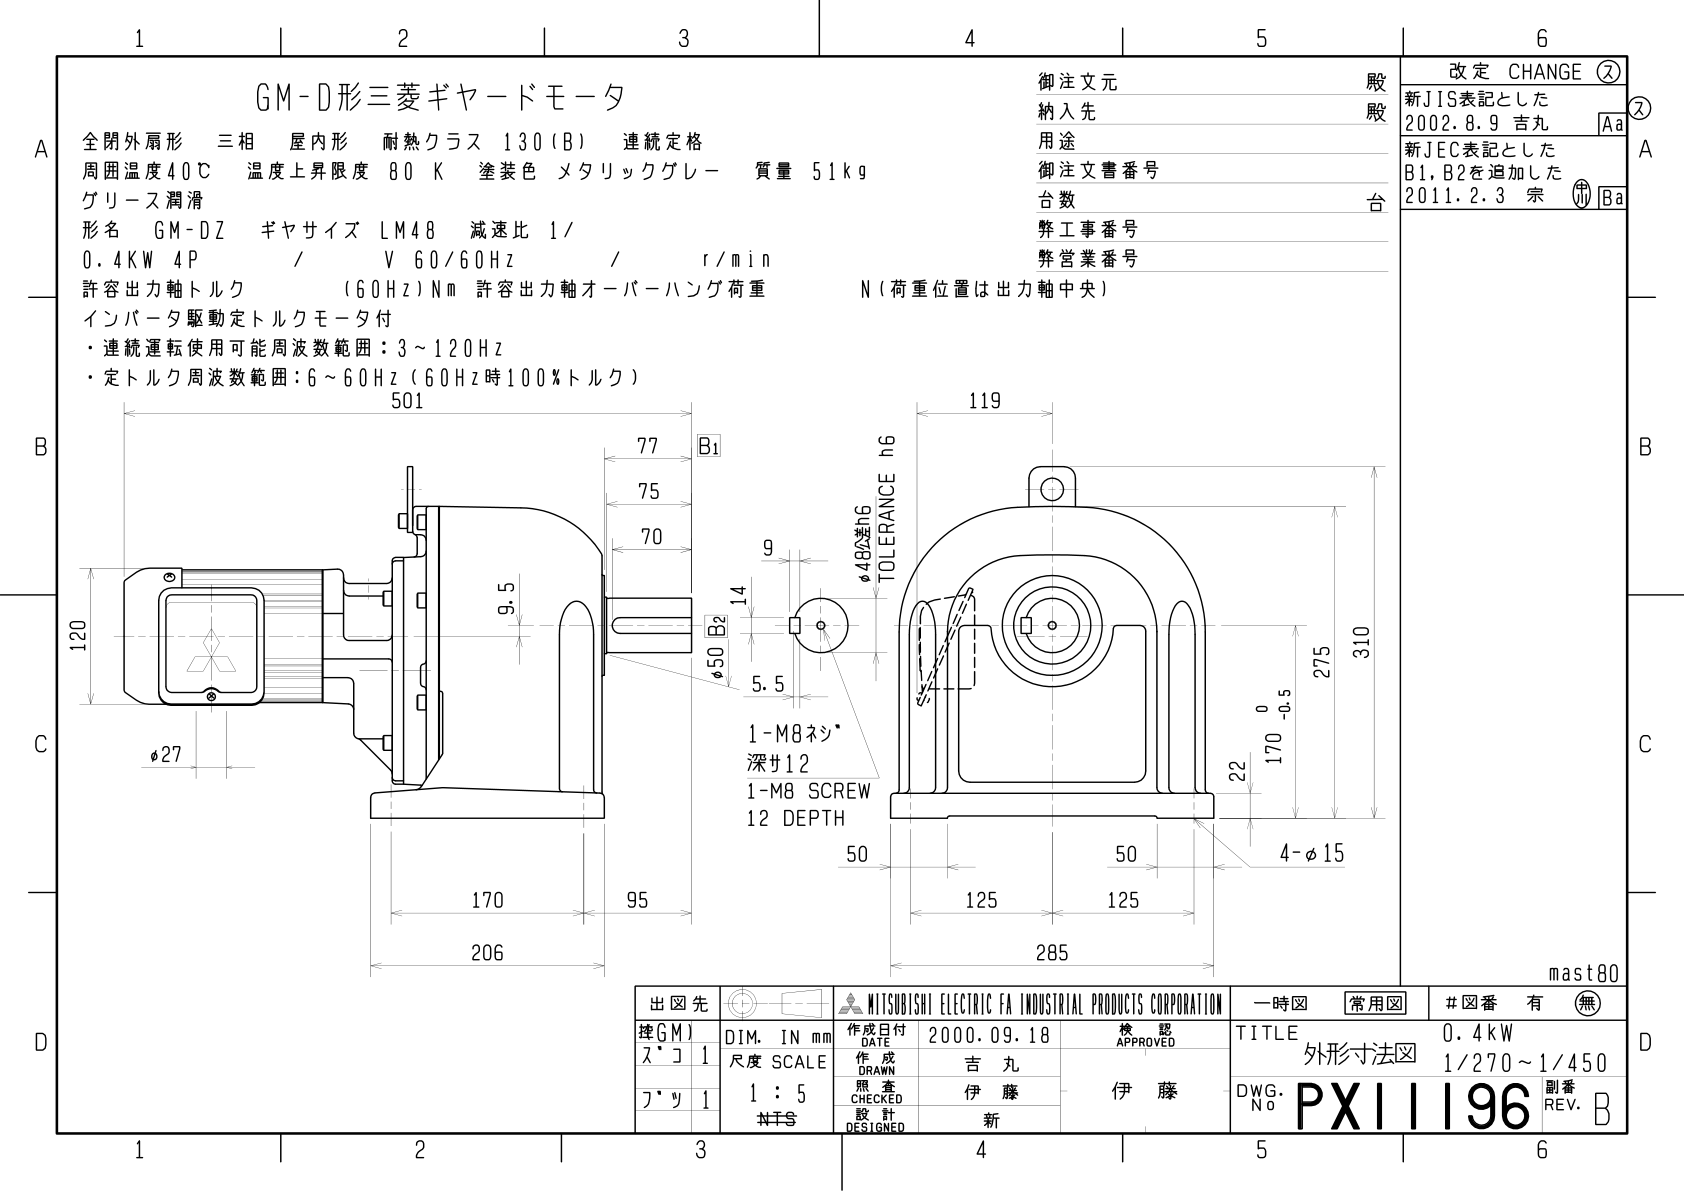GM_D_インバータ屋内_三相_脚: (58, 388, 1393, 980)
